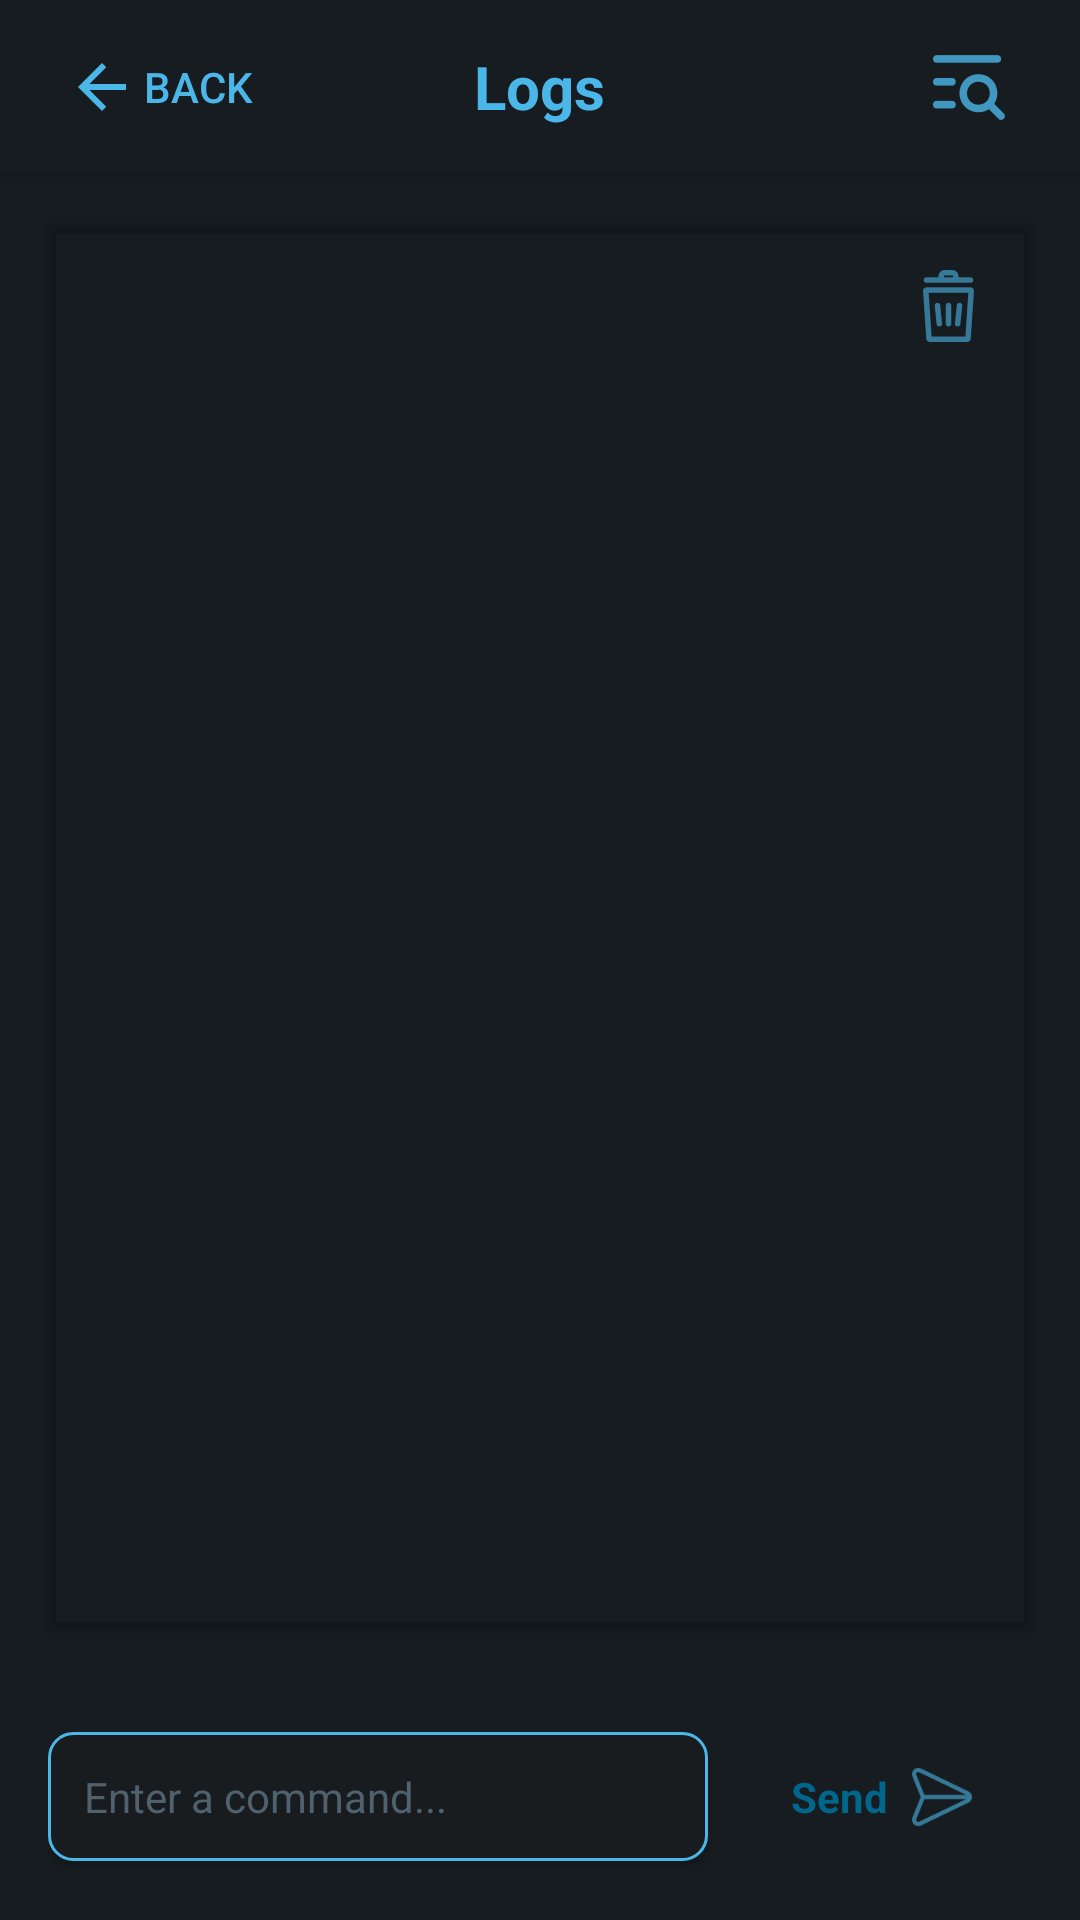

Icon bounding boxes for this 1080*1920 phone screenshot, format (x1, y1, x2, y2):
Clear logs: (923, 270, 974, 342)
